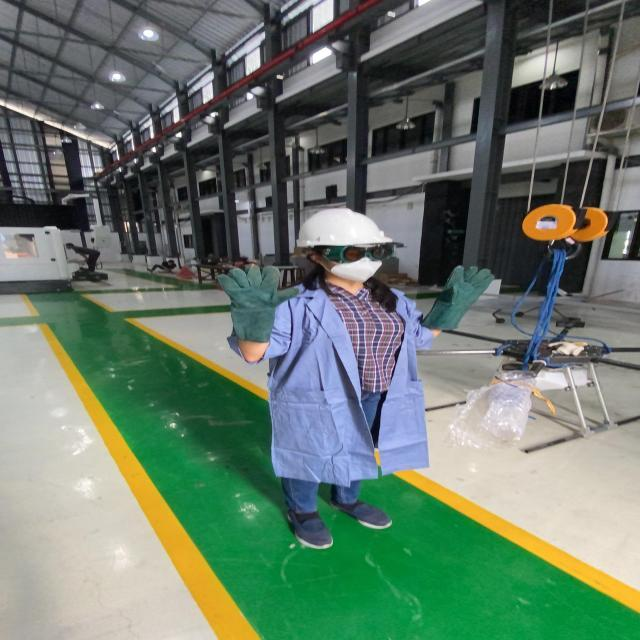glasses: (311, 240, 402, 262)
